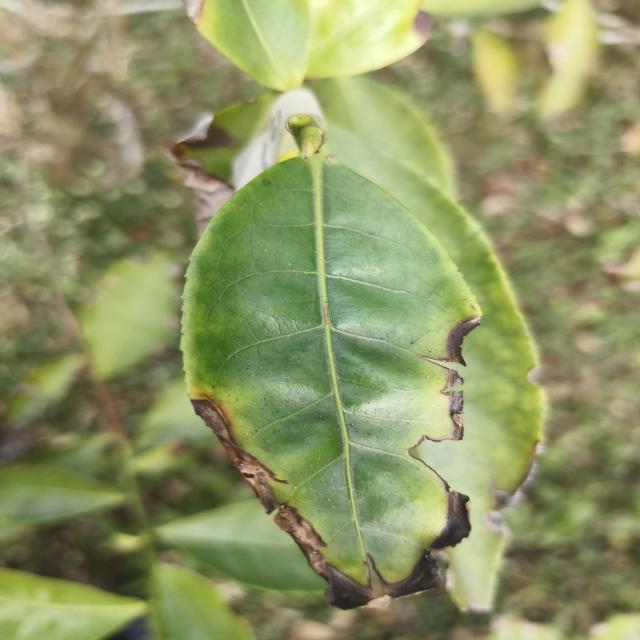Leaf: (182, 153, 480, 608), (155, 498, 326, 591), (78, 253, 177, 379), (183, 0, 311, 91), (0, 569, 146, 640), (307, 0, 430, 78), (149, 562, 254, 640), (0, 465, 124, 523), (471, 30, 518, 115)
